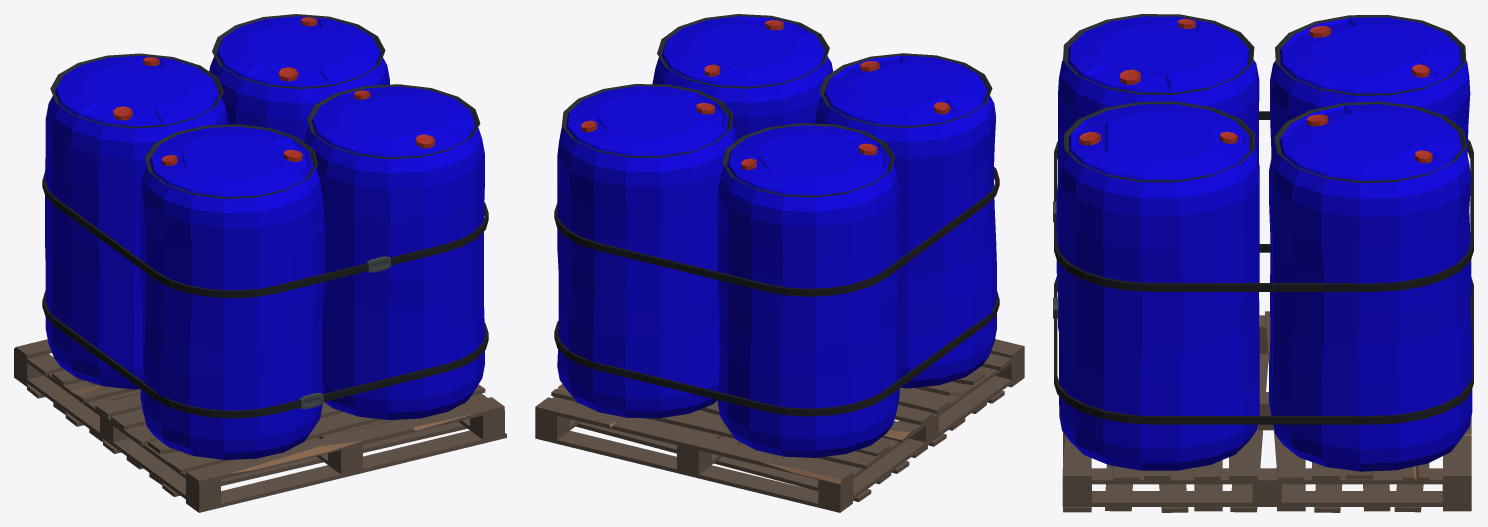
Rendered from SM_Small_Cargo_Cisterns.gltf.
3 renders of one model, left to right at view 1: azimuth 30°, elevation 25°; view 2: azimuth 150°, elevation 25°; view 3: azimuth 270°, elevation 25°, orthographic. The views are drawn at different scales.
Visible parts, largest first — view 1: SM_Small_Cargo_Cisterns; view 2: SM_Small_Cargo_Cisterns; view 3: SM_Small_Cargo_Cisterns.
Part boxes in pixels (x1,y1,x2,y2): SM_Small_Cargo_Cisterns: (14,14,506,512); SM_Small_Cargo_Cisterns: (535,14,1024,512); SM_Small_Cargo_Cisterns: (1053,14,1473,512).
Size of the model in its own units: 1 by 0.9178 by 1.03.
